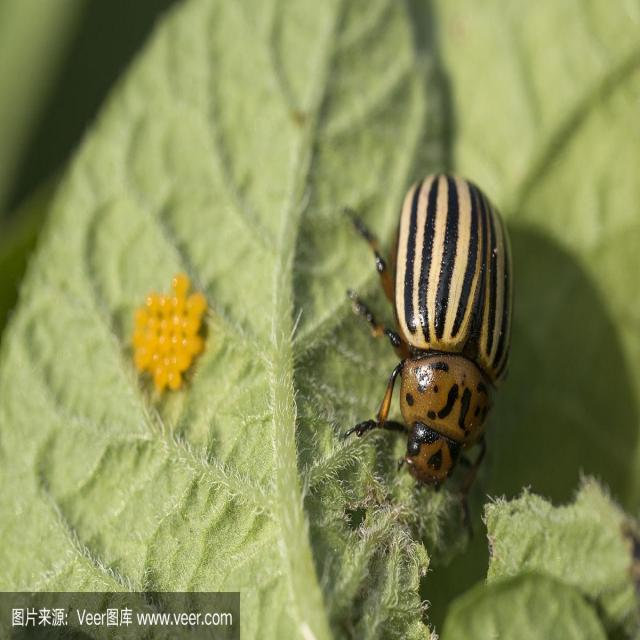ShuCaiHuaBanChong-Grown-: (378, 172, 520, 500)
